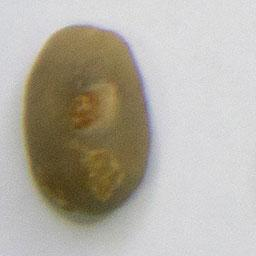premium: (20, 22, 155, 218)
